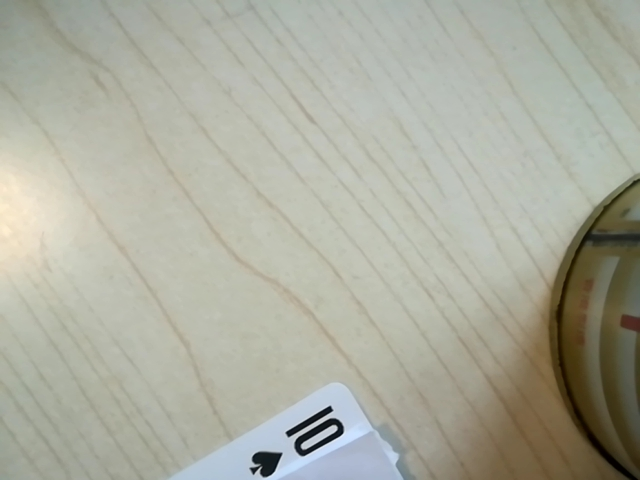ht 10: (229, 401, 363, 476)
